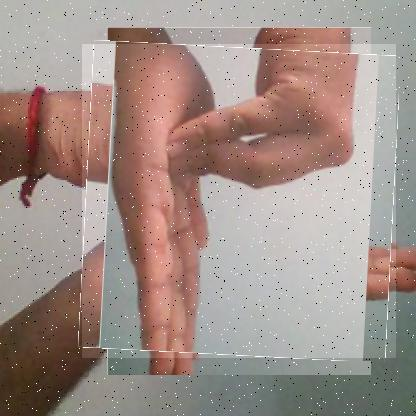Z: (82, 44, 397, 359)
